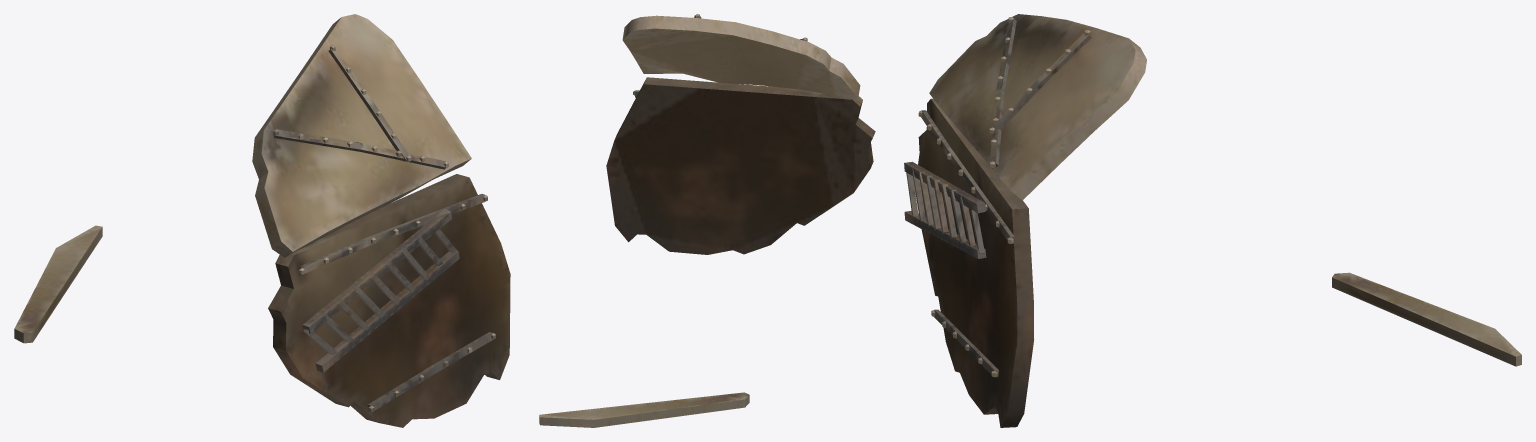
Rendered from crash-site-spaceship-wreck-small-1.glb.
3 renders of one model, left to right at view 1: azimuth 30°, elevation 25°; view 2: azimuth 150°, elevation 25°; view 3: azimuth 270°, elevation 25°, orthographic. The views are drawn at different scales.
Visible parts, largest first — view 1: body; view 2: body; view 3: body.
Boxes of the visible parts, x1=… form: body: x1=14, y1=14, x2=510, y2=427; body: x1=539, y1=14, x2=875, y2=427; body: x1=904, y1=14, x2=1521, y2=427.
Bounding box in the file's own units: 1.75 × 1.76 × 2.8.
Materials: 1 (1 with a texture image).
